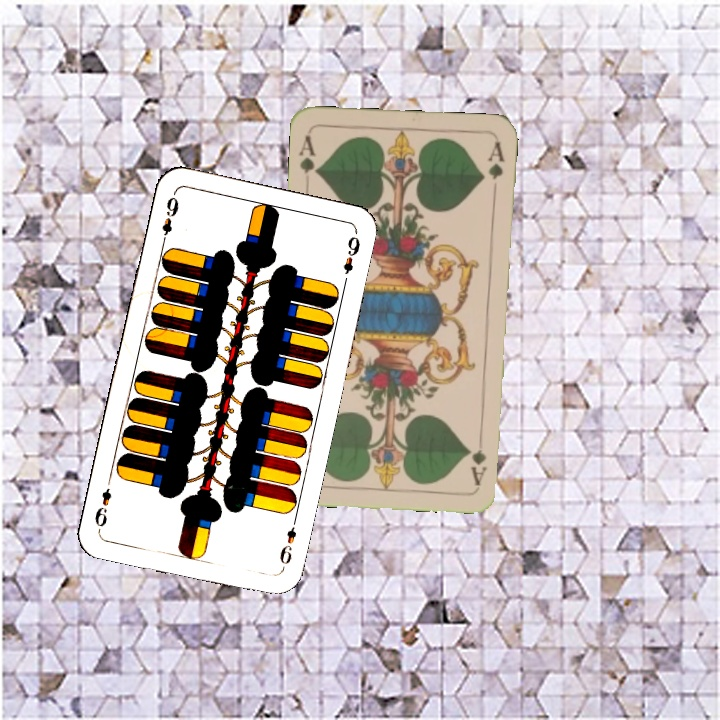E9: (157, 190, 182, 249), (275, 514, 300, 572)
GA: (296, 131, 322, 189), (467, 428, 489, 488)
